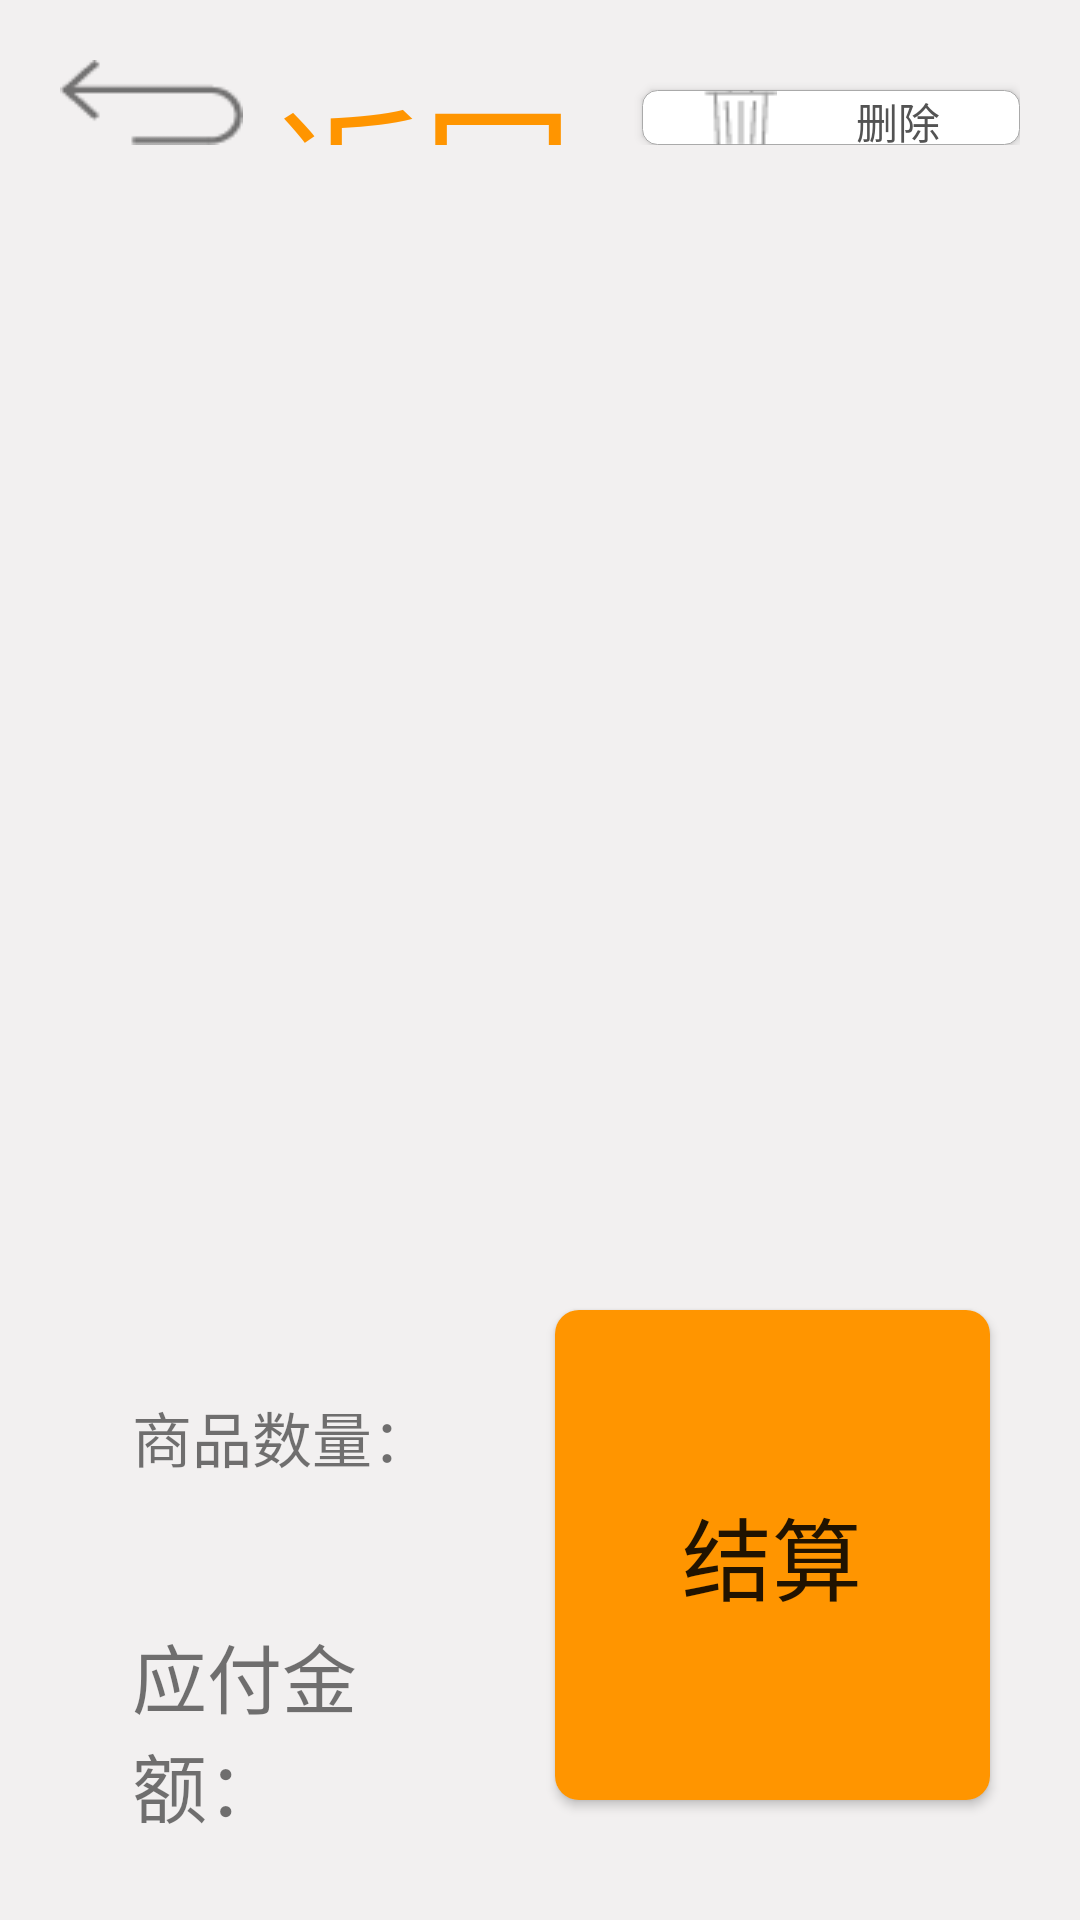

Screen size 1080*1920. Icon name, then its box in pixels as box(x1, y1, x2, y2):
back: box(60, 60, 243, 145)
